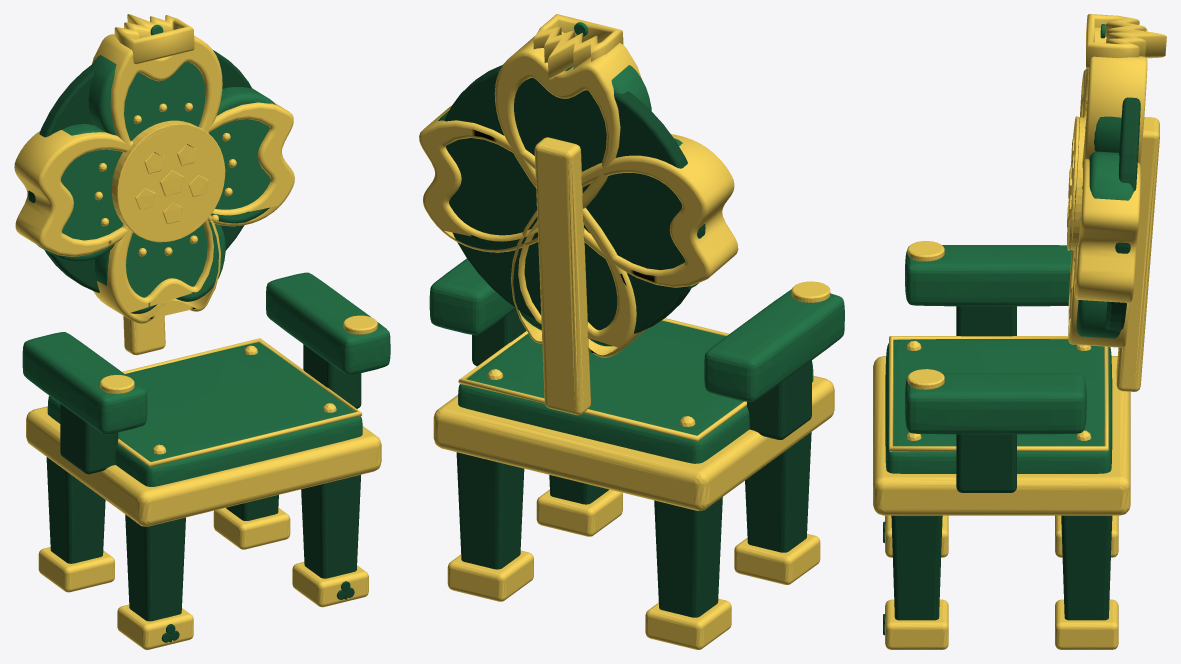
Rendered from LuckyCloverChair_Baked.fbx.
The picture shows the model from 3 angles, left to right: view 1: azimuth 30°, elevation 25°; view 2: azimuth 150°, elevation 25°; view 3: azimuth 270°, elevation 25°; orthographic projection. The views are drawn at different scales.
Visible parts, largest first — view 1: LuckyCloverChair_Baked; view 2: LuckyCloverChair_Baked; view 3: LuckyCloverChair_Baked.
Part boxes in pixels (x1,y1,x2,y2): LuckyCloverChair_Baked: (14, 14, 390, 649); LuckyCloverChair_Baked: (419, 14, 844, 649); LuckyCloverChair_Baked: (873, 14, 1166, 649).
Size of the model in its own units: 1.2 by 2.07 by 0.9695.
